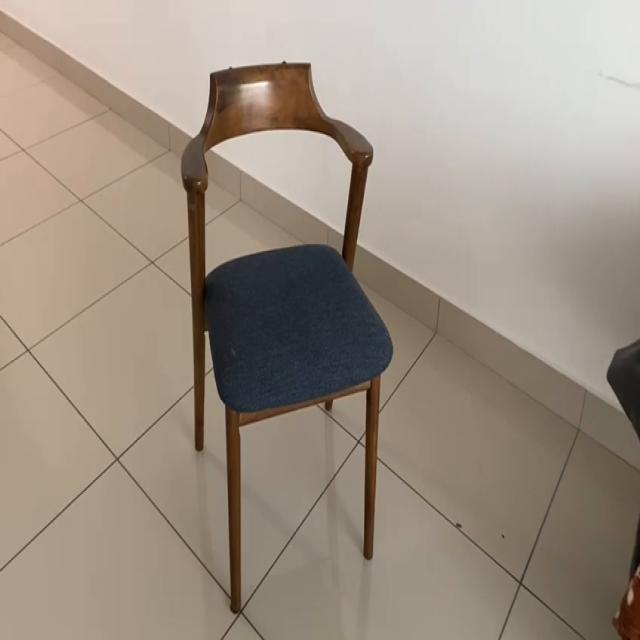Chair: (135, 60, 392, 582)
